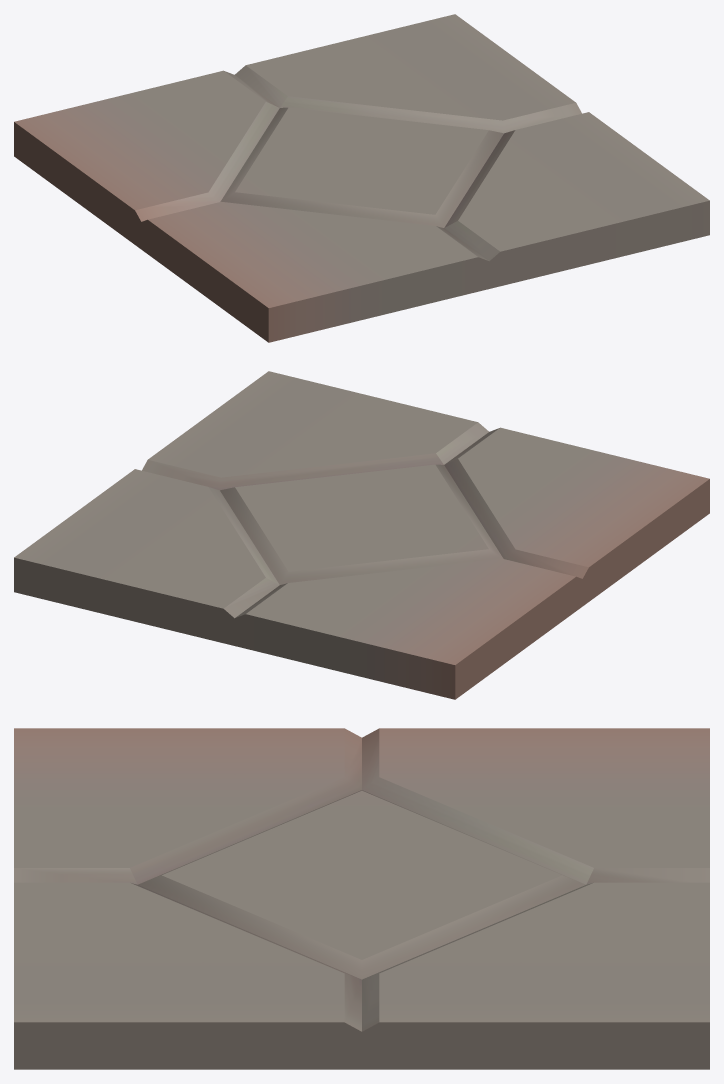
File: floor_tile_small.glb
The picture shows the model from 3 angles, top to bottom: view 1: azimuth 30°, elevation 25°; view 2: azimuth 150°, elevation 25°; view 3: azimuth 270°, elevation 25°; orthographic projection. The views are drawn at different scales.
Parts seen in each view (by area): view 1: floor_tile_small; view 2: floor_tile_small; view 3: floor_tile_small.
Boxes of the visible parts, x1,y1,x2,y2 form: floor_tile_small: [14, 14, 709, 342]; floor_tile_small: [14, 371, 709, 699]; floor_tile_small: [14, 728, 709, 1069].
Bounding box in the file's own units: 2 × 0.1499 × 2.
1 material, 1 textured.
